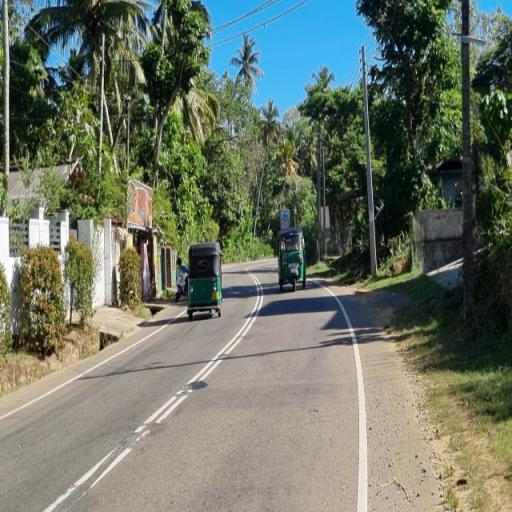double_white_line: (134, 272, 264, 438)
